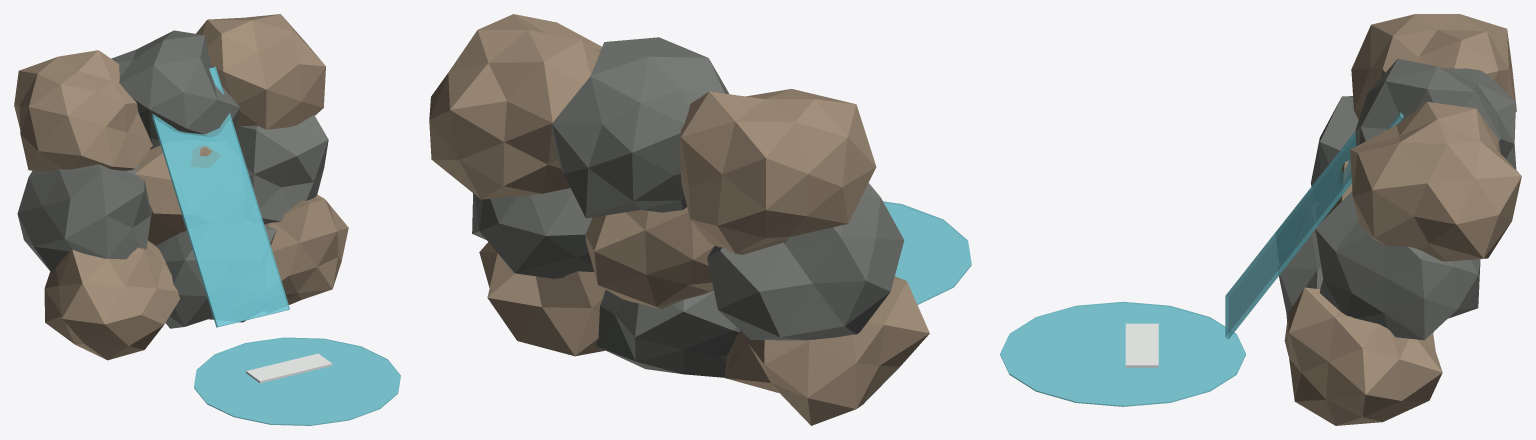
Rendered from waterfall.glb.
3 views of the same model, side by side, from view 1: azimuth 30°, elevation 25°; view 2: azimuth 150°, elevation 25°; view 3: azimuth 270°, elevation 25° (orthographic). The views are drawn at different scales.
Visible parts, largest first — view 1: waterfall; view 2: waterfall; view 3: waterfall.
Boxes of the visible parts, bbox=[...] form: waterfall: bbox=[14, 14, 400, 425]; waterfall: bbox=[429, 14, 971, 425]; waterfall: bbox=[1000, 14, 1521, 425].
Size of the model in its own units: 15.36 by 12.58 by 19.09.
